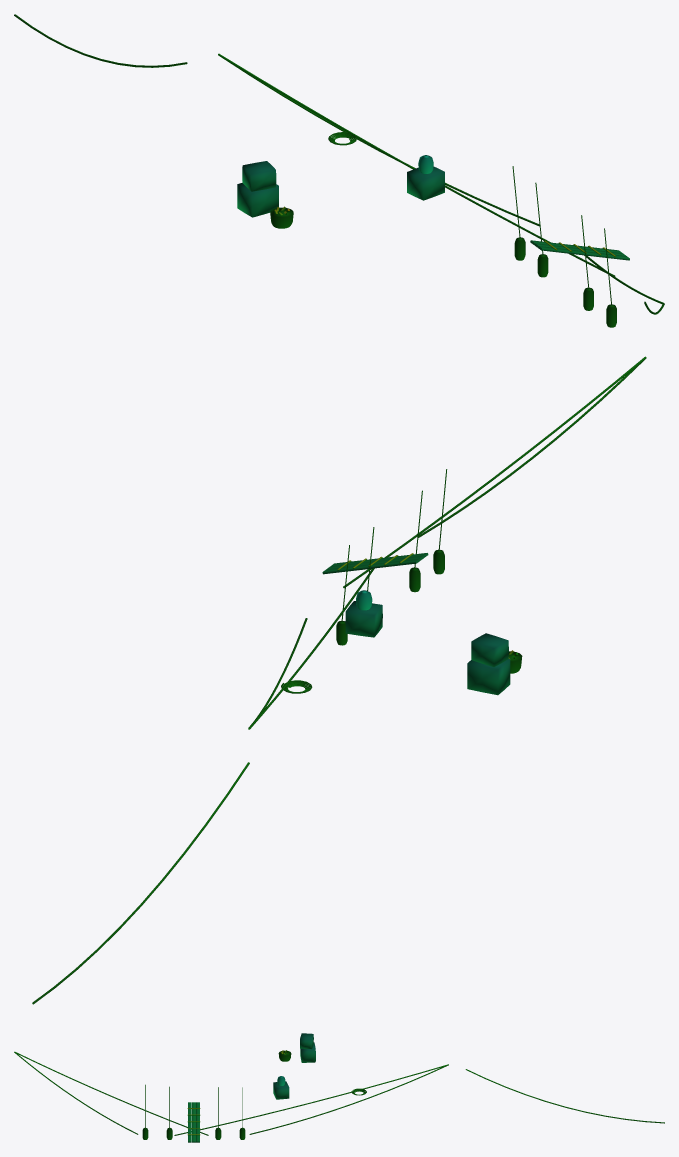
The model's file is terrace_moored.glb.
3 views of the same model, one above another, from view 1: azimuth 30°, elevation 25°; view 2: azimuth 150°, elevation 25°; view 3: azimuth 270°, elevation 25° (orthographic). The views are drawn at different scales.
Visible parts, largest first — view 1: terrace_moored; view 2: terrace_moored; view 3: terrace_moored.
Boxes of the visible parts, left/top/right/bottom form: terrace_moored: left=14, top=14, right=664, bottom=327; terrace_moored: left=32, top=356, right=646, bottom=1004; terrace_moored: left=14, top=1033, right=664, bottom=1142.
Size of what is drawn, in the model's own units: 6.9 by 3.69 by 26.82.
